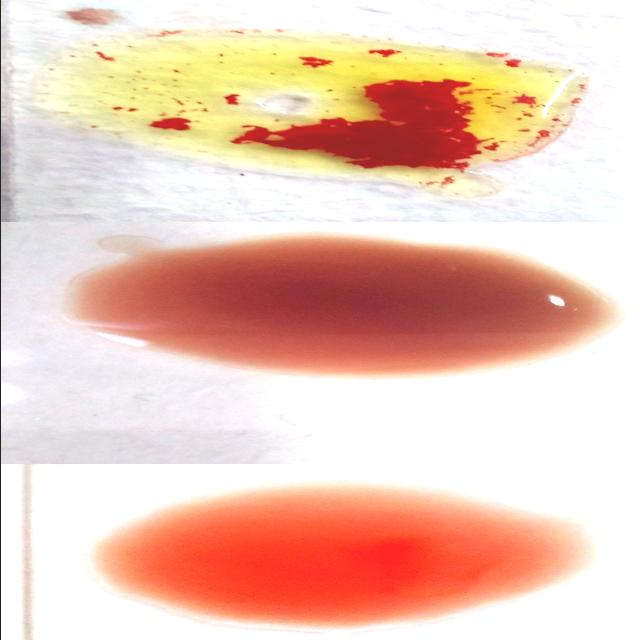B: (48, 32, 584, 180)
